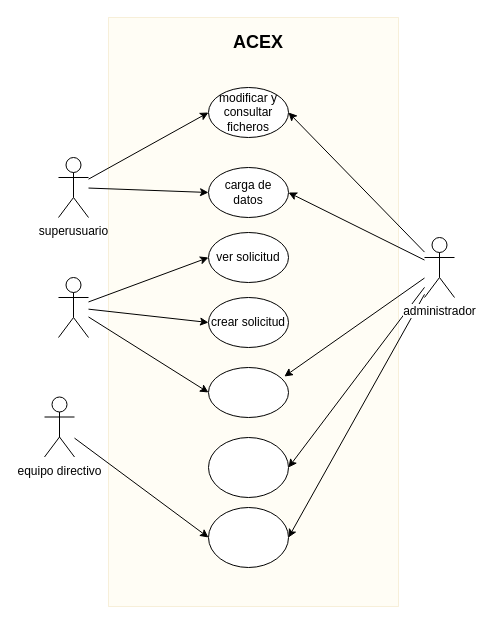
The diagram is 493 pixels wide and 624 high, and some of its shapes have lost their labels. Each missing label, with the box of its shape:
aprobar o denegar solicitudes: (208, 506, 288, 568)
completar solicitud: (208, 436, 288, 498)
modificar solicitud: (208, 366, 288, 418)
profesor: (58, 276, 88, 338)
